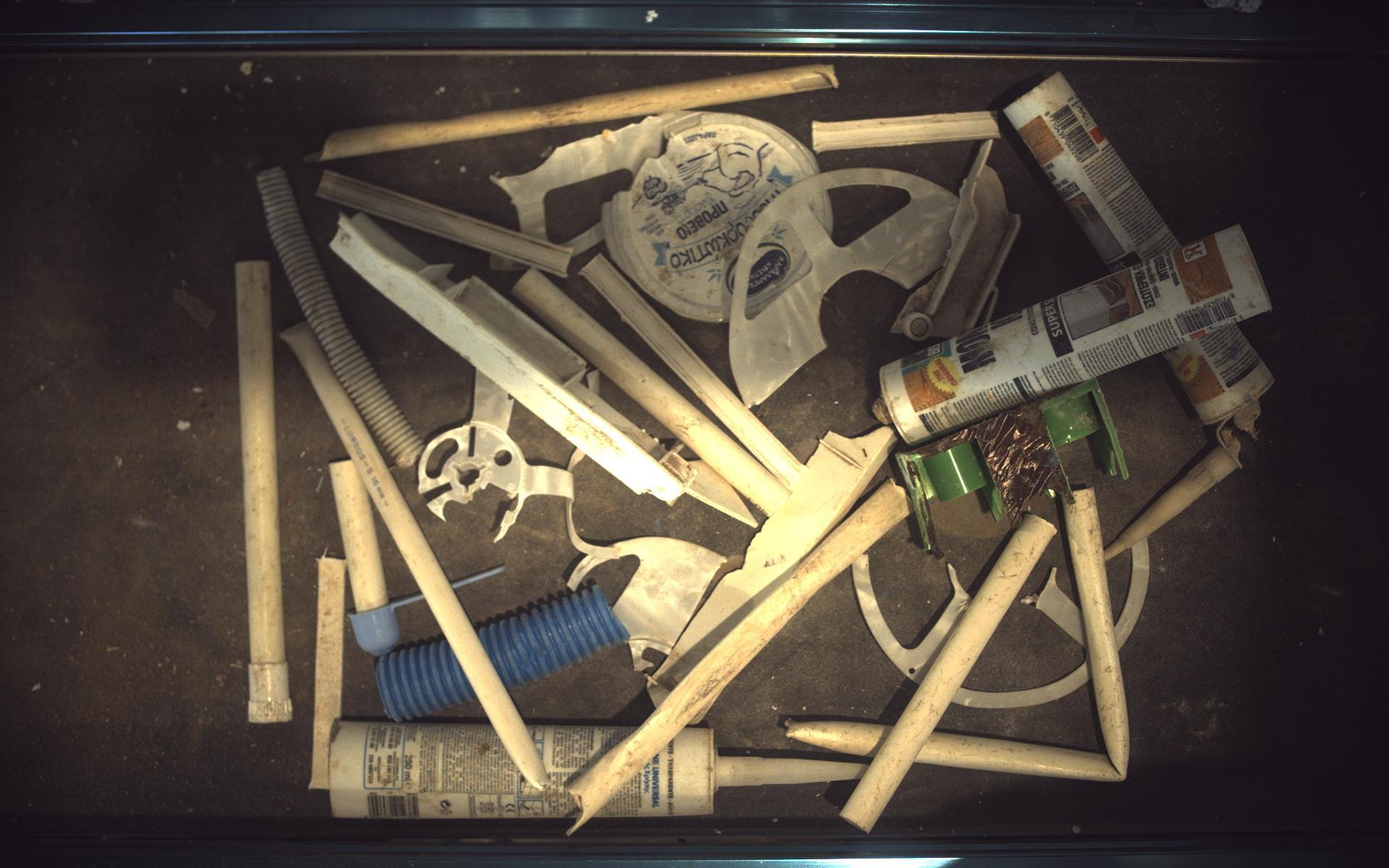general_w: (603, 111, 833, 325), (347, 592, 424, 657), (450, 565, 506, 590)
pipes: (281, 323, 547, 791), (569, 481, 909, 835), (513, 268, 791, 516), (843, 514, 1058, 834), (917, 490, 1132, 783), (315, 63, 840, 160), (256, 166, 425, 467), (234, 260, 292, 725), (477, 585, 630, 690), (328, 459, 388, 613), (376, 639, 476, 723), (788, 721, 891, 759)
plastic: (331, 213, 759, 527), (875, 225, 1275, 444), (649, 427, 899, 708), (731, 168, 960, 407), (580, 253, 805, 489), (897, 379, 1132, 553), (1109, 323, 1277, 559), (1006, 72, 1181, 269), (328, 723, 632, 821), (315, 169, 574, 277), (568, 501, 728, 672), (417, 372, 574, 542), (894, 141, 1023, 340), (491, 112, 687, 238), (600, 729, 866, 819), (854, 555, 971, 684), (308, 557, 346, 791), (813, 110, 1002, 151), (955, 663, 1092, 710), (1021, 567, 1086, 646), (1116, 541, 1152, 650), (561, 221, 605, 255), (489, 253, 527, 271), (567, 448, 585, 472)
